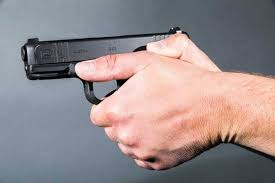gun: (20, 30, 196, 105)
